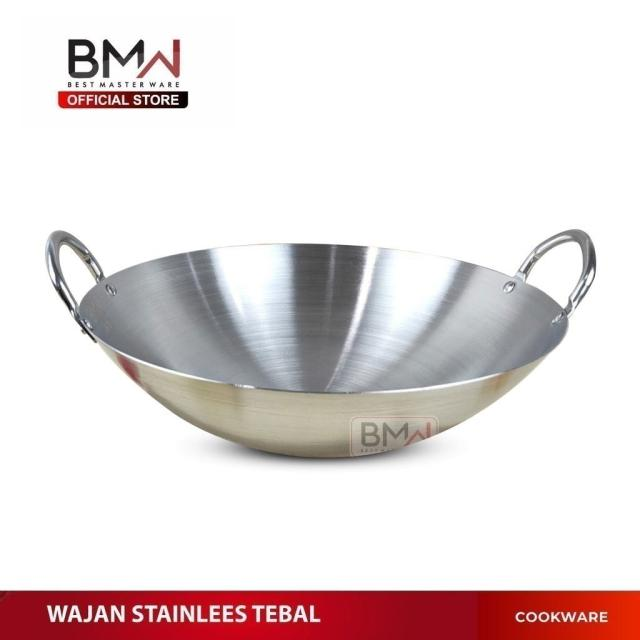Wajan: (31, 187, 606, 472)
